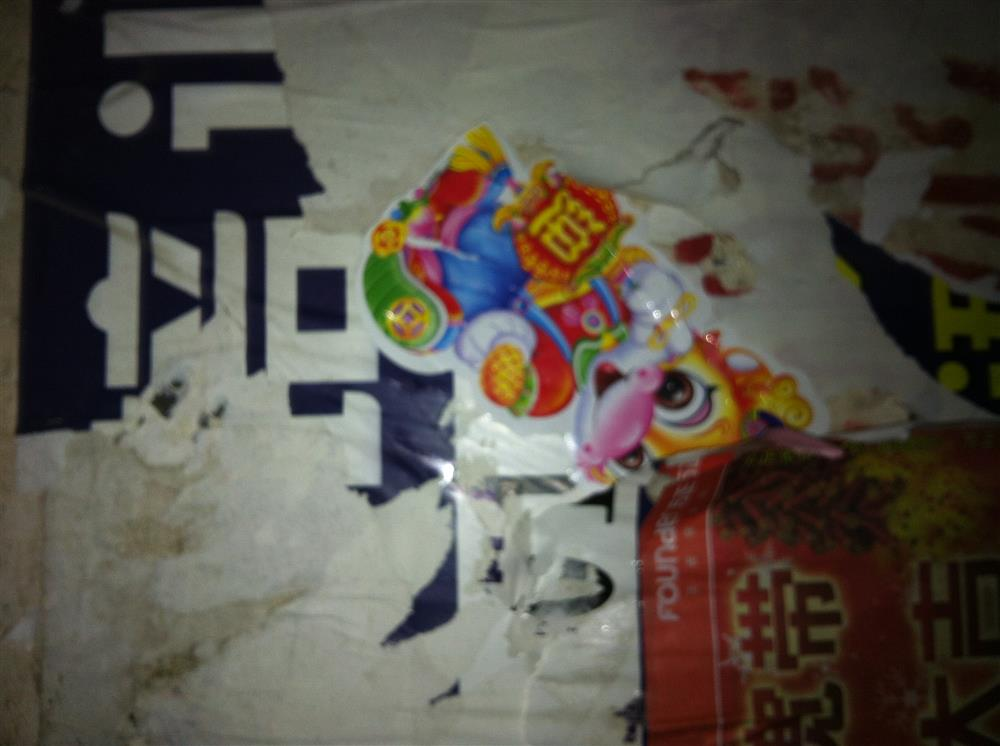new_year_pic: (354, 119, 833, 499)
